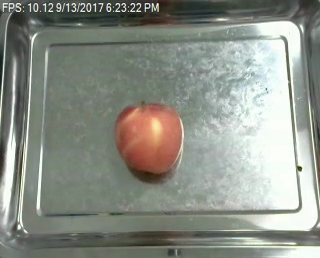Apple: (110, 101, 188, 175)
